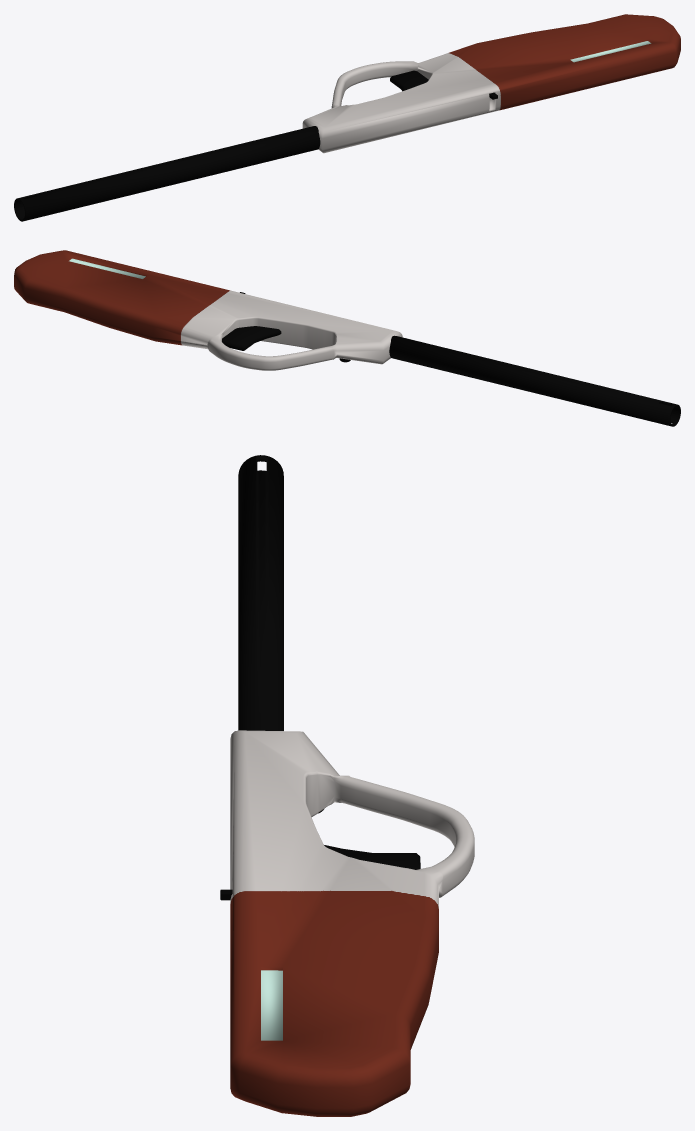
Rendered from Chikuwaman.fbx.
3 views of the same model, one above another, from view 1: azimuth 30°, elevation 25°; view 2: azimuth 150°, elevation 25°; view 3: azimuth 270°, elevation 25° (orthographic). The views are drawn at different scales.
Visible parts, largest first — view 1: テキスト; view 2: テキスト; view 3: テキスト.
Part boxes in pixels (left/top/right/bottom): テキスト: left=14, top=14, right=680, bottom=221; テキスト: left=14, top=250, right=680, bottom=426; テキスト: left=220, top=455, right=474, bottom=1116.
Bounding box in the file's own units: 5.01 × 0.1863 × 0.8658.
